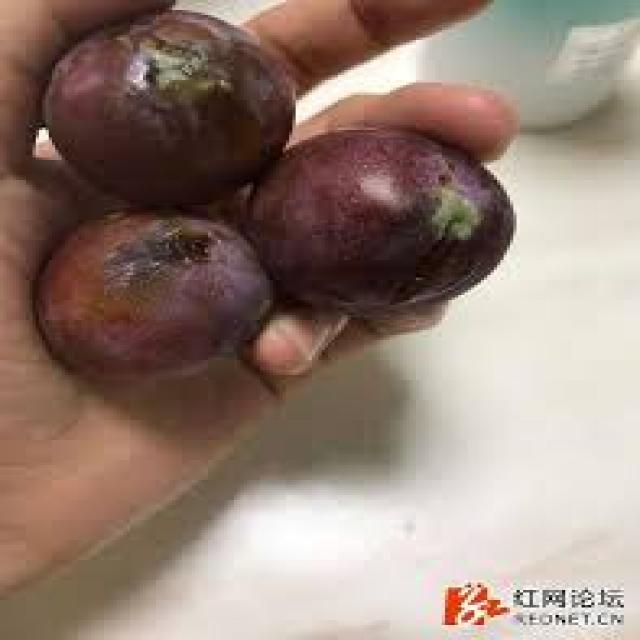organic waste: (240, 122, 510, 308), (42, 8, 289, 200), (29, 207, 273, 385)
